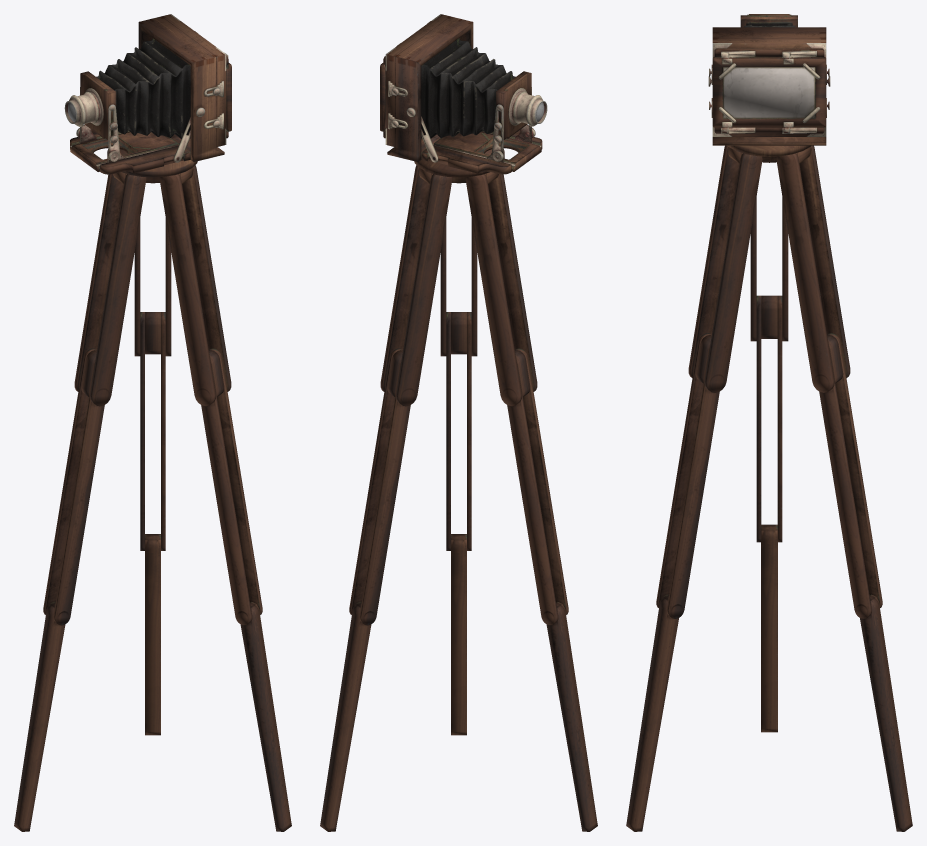
The model's file is antique_wet_plate_camera_on_tripod_-_game_model.glb.
3 views of the same model, side by side, from view 1: azimuth 30°, elevation 25°; view 2: azimuth 150°, elevation 25°; view 3: azimuth 270°, elevation 25° (orthographic). The views are drawn at different scales.
Parts seen in each view (by area): view 1: layer1_lp.007, layer1_lp.005, layer4_lp, layer1_lp.008, layer1_lp.006; view 2: layer1_lp.008, layer1_lp.005, layer4_lp, layer1_lp.007, layer1_lp.006; view 3: layer1_lp.007, layer1_lp.008, layer4_lp, layer1_lp.005, layer1_lp.006.
Part boxes in pixels (x1=…): layer1_lp.007: x1=159, y1=165, x2=291, y2=831; layer1_lp.005: x1=14, y1=172, x2=146, y2=831; layer4_lp: x1=64, y1=14, x2=231, y2=174; layer1_lp.008: x1=134, y1=218, x2=171, y2=735; layer1_lp.006: x1=107, y1=149, x2=197, y2=183; layer1_lp.008: x1=320, y1=165, x2=452, y2=831; layer1_lp.005: x1=465, y1=172, x2=597, y2=831; layer4_lp: x1=380, y1=14, x2=547, y2=174; layer1_lp.007: x1=440, y1=218, x2=477, y2=735; layer1_lp.006: x1=414, y1=149, x2=504, y2=183; layer1_lp.007: x1=626, y1=145, x2=762, y2=831; layer1_lp.008: x1=776, y1=145, x2=912, y2=831; layer4_lp: x1=708, y1=14, x2=830, y2=145; layer1_lp.005: x1=750, y1=197, x2=788, y2=732; layer1_lp.006: x1=728, y1=145, x2=810, y2=162.
Bounding box in the file's own units: 0.3671 × 1.27 × 0.4239.
Materials: 2 (2 with a texture image).
